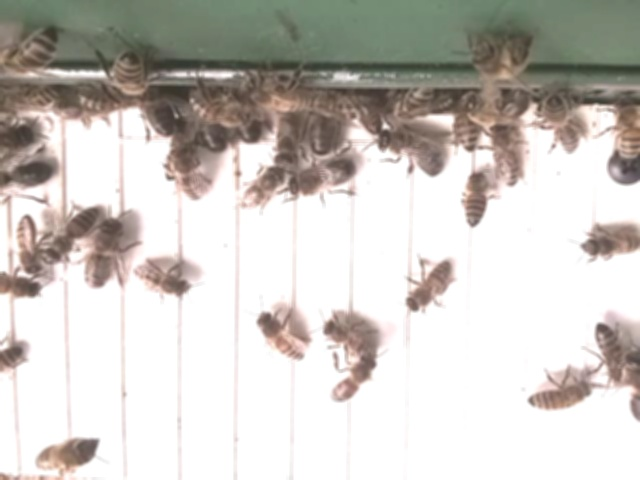Drone: (374, 125, 445, 181), (82, 216, 125, 295), (285, 155, 354, 201), (0, 157, 58, 195)
Worker: (45, 203, 99, 265), (251, 310, 306, 364), (402, 258, 450, 316), (130, 260, 192, 301), (32, 435, 99, 472), (590, 319, 627, 383), (166, 145, 206, 204), (524, 380, 591, 415), (318, 320, 379, 358), (327, 358, 374, 407), (487, 123, 521, 188), (237, 166, 282, 215), (579, 228, 640, 261), (460, 168, 489, 232), (14, 214, 42, 275)
